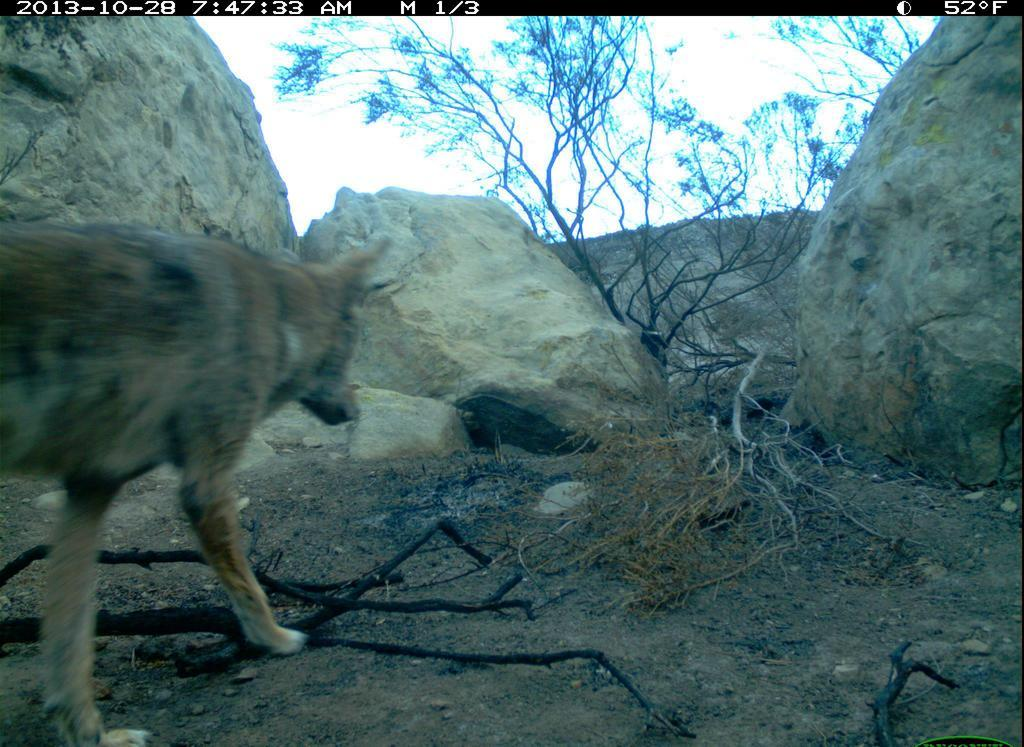coyote: (3, 218, 396, 747)
